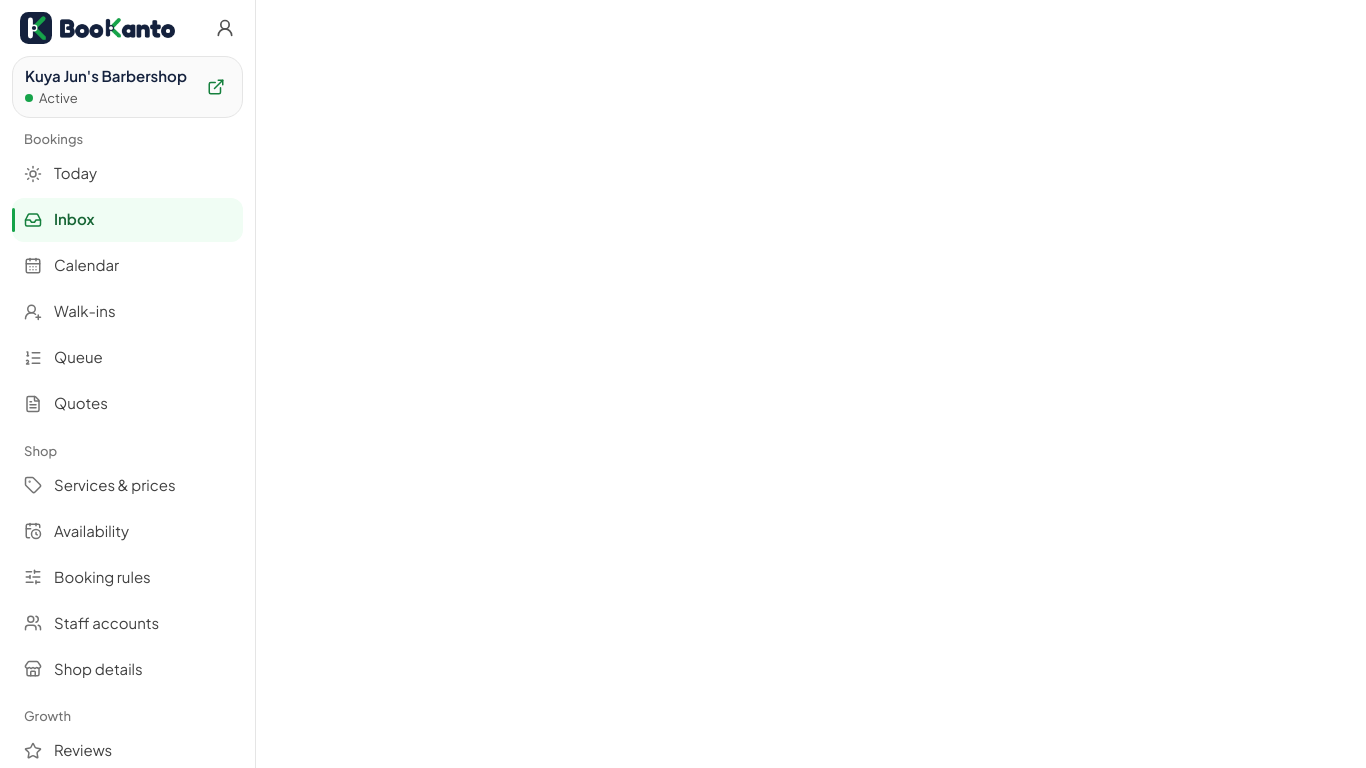
Test: Dashboard sidebar › highlights the clicked page and shows its skeleton before the route loads
Click the link "Calendar": coordinates (72, 265) [24,255,119,275]
(page scrolled)
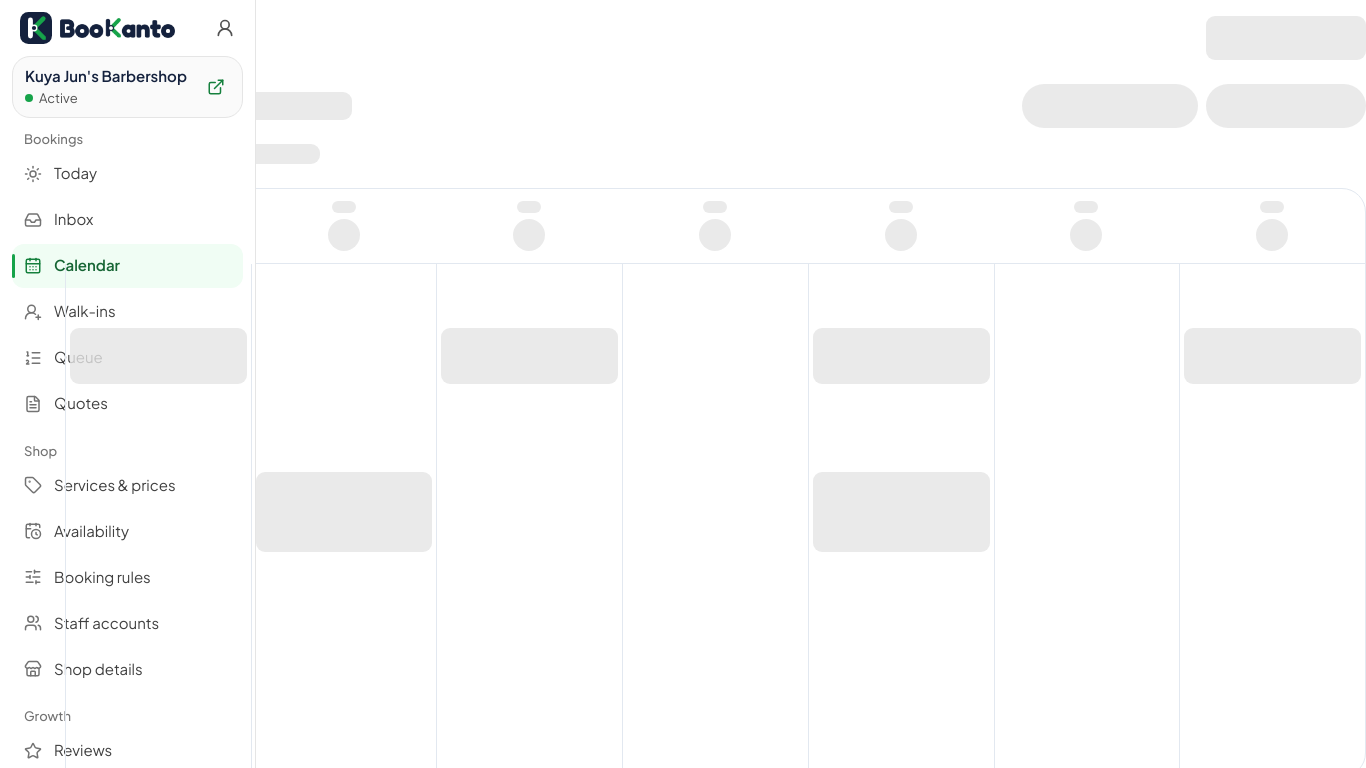
Check: the link "Calendar" is marked as current, box [12,244,243,288]
